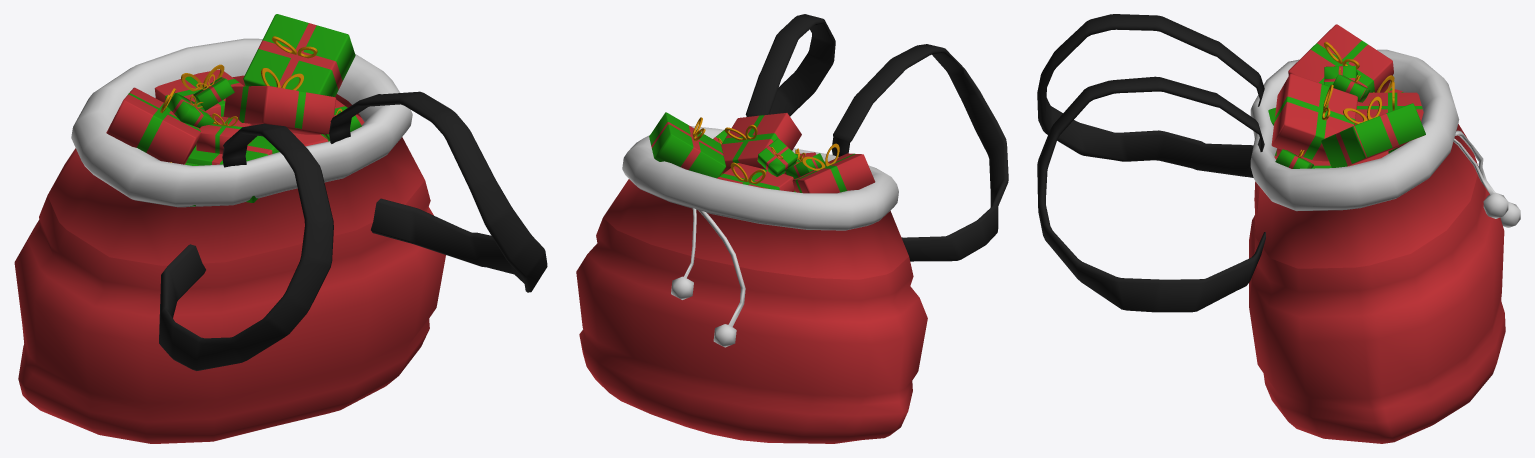
3 views of the same model, side by side, from view 1: azimuth 30°, elevation 25°; view 2: azimuth 150°, elevation 25°; view 3: azimuth 270°, elevation 25° (orthographic). The views are drawn at different scales.
Parts seen in each view (by area): view 1: acessoriesBackpackSanta; view 2: acessoriesBackpackSanta; view 3: acessoriesBackpackSanta.
Boxes of the visible parts, x1,y1,x2,y2 form: acessoriesBackpackSanta: [14, 14, 547, 443]; acessoriesBackpackSanta: [576, 14, 1008, 443]; acessoriesBackpackSanta: [1037, 14, 1520, 443].
Size of the model in its own units: 0.5973 by 0.5431 by 0.6896.
Materials: 2 (2 with a texture image).
